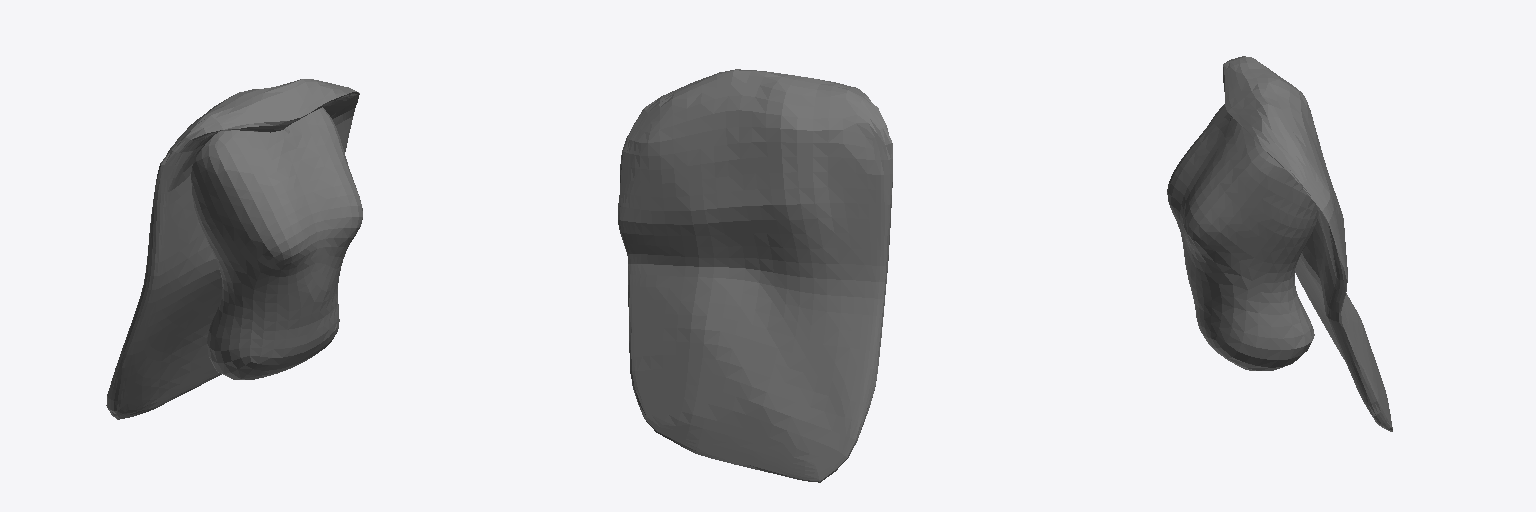
Rendered from Man_Body.obj.
3 views of the same model, side by side, from view 1: azimuth 30°, elevation 25°; view 2: azimuth 150°, elevation 25°; view 3: azimuth 270°, elevation 25° (orthographic).
Visible parts, largest first — view 1: Woman_Body_Woman_Body, Woman_Cloak_Woman_Cloak; view 2: Woman_Cloak_Woman_Cloak; view 3: Woman_Body_Woman_Body, Woman_Cloak_Woman_Cloak.
Part boxes in pixels (left/top/right/bottom): Woman_Body_Woman_Body: left=191, top=107, right=362, bottom=379; Woman_Cloak_Woman_Cloak: left=106, top=79, right=359, bottom=419; Woman_Cloak_Woman_Cloak: left=618, top=69, right=892, bottom=482; Woman_Body_Woman_Body: left=1167, top=104, right=1318, bottom=370; Woman_Cloak_Woman_Cloak: left=1223, top=56, right=1392, bottom=431.
Bounding box in the file's own units: 29.22 × 39.65 × 23.48.